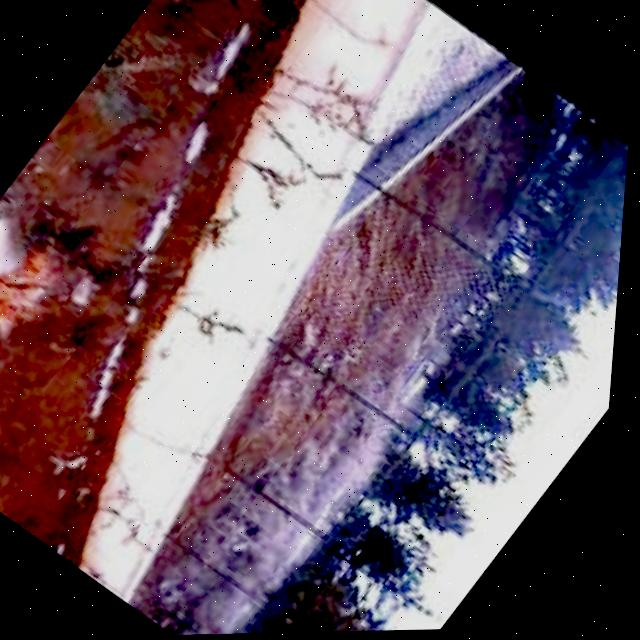Fire: (0, 209, 86, 369)
